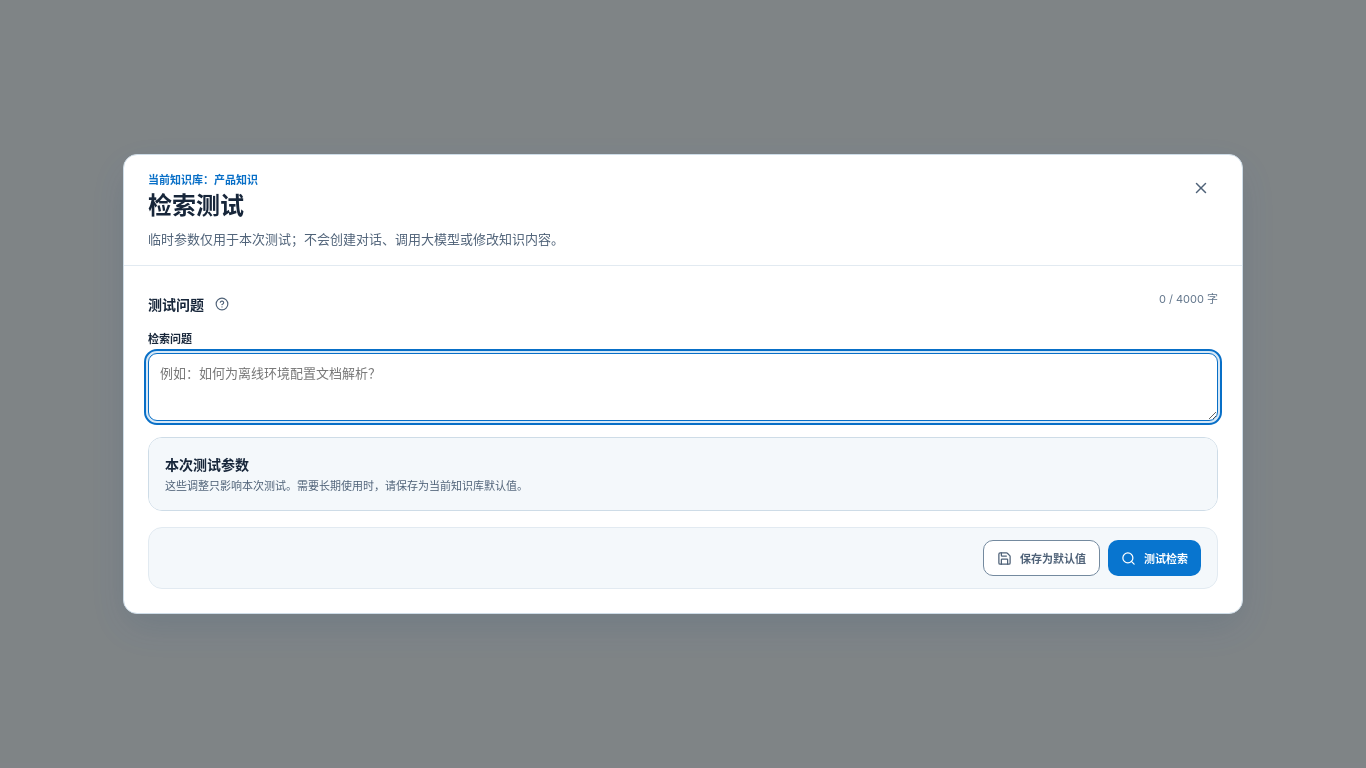
KnowledgeRetrievalWorkbench › validates the query and settings before invoking retrieval
Click the text "本次测试参数" at (207, 464), box x1=165 y1=456 x2=249 y2=473
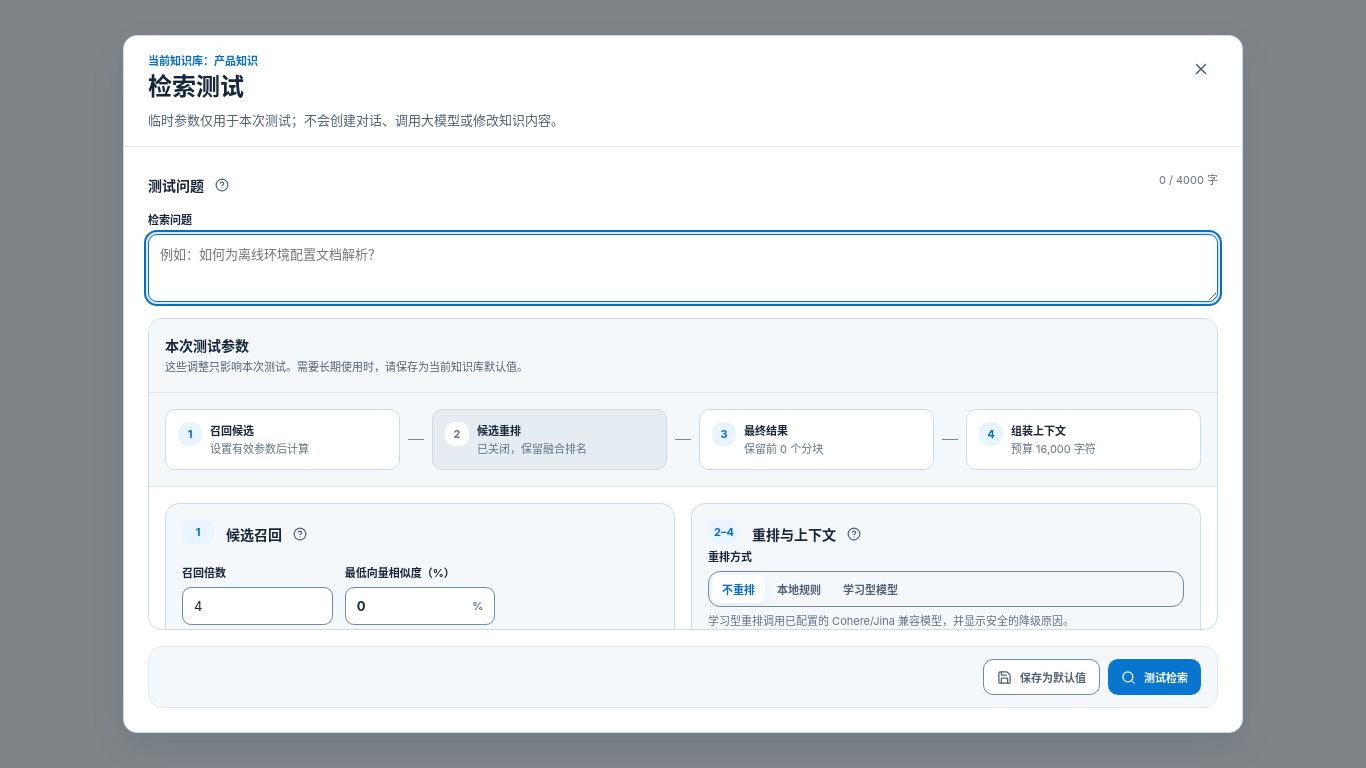
Click the button "测试检索" at (1154, 677), box x1=1108 y1=659 x2=1201 y2=695
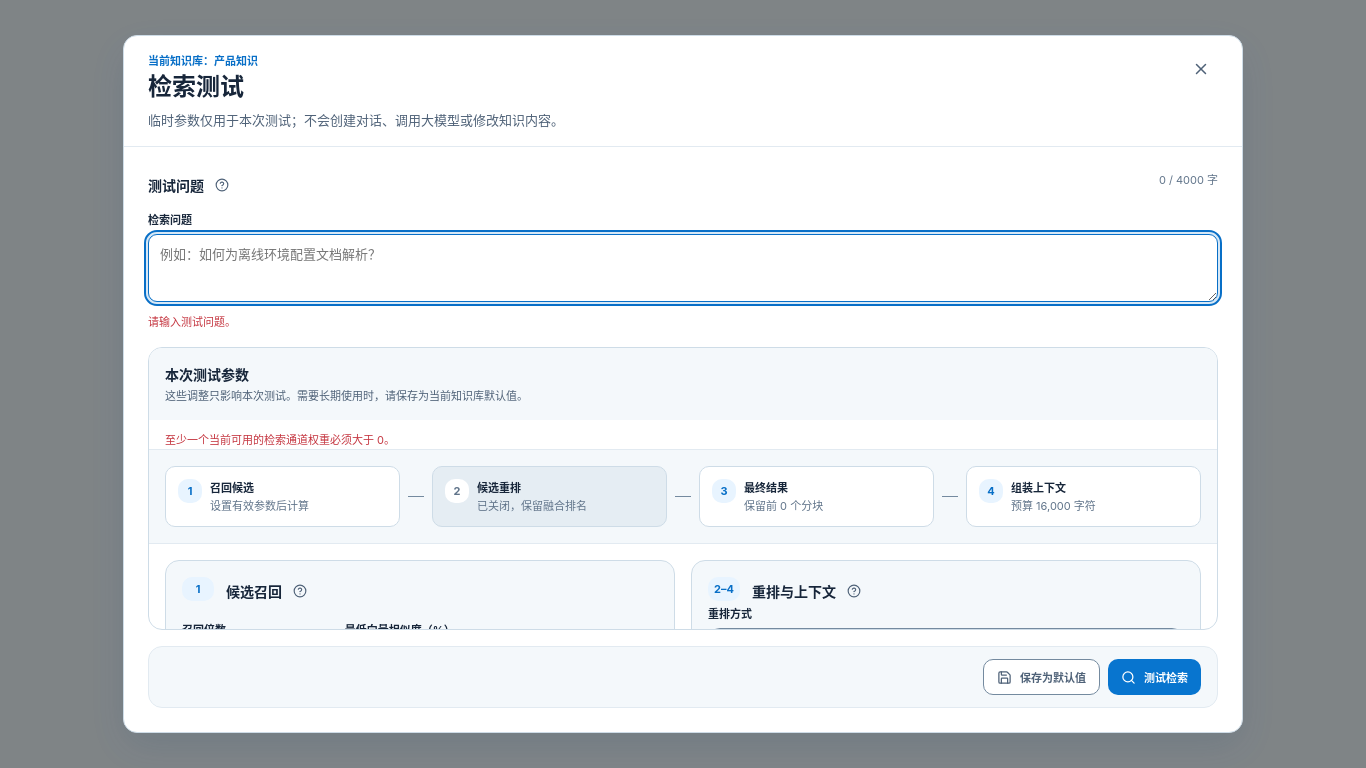
Check: the text "请输入测试问题。" is shown, box x1=148 y1=315 x2=236 y2=329
Check: the message reads "至少一个当前可用的检索通道权重必须大于 0。", box x1=165 y1=433 x2=395 y2=447
